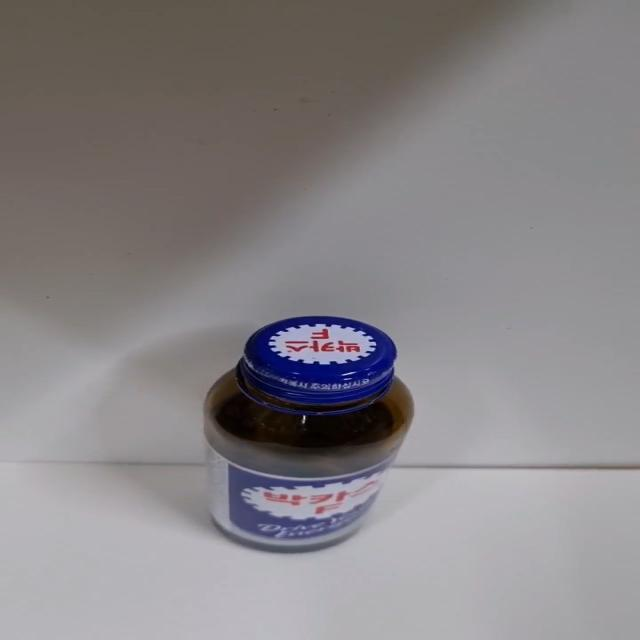Glass: (201, 316, 417, 556)
